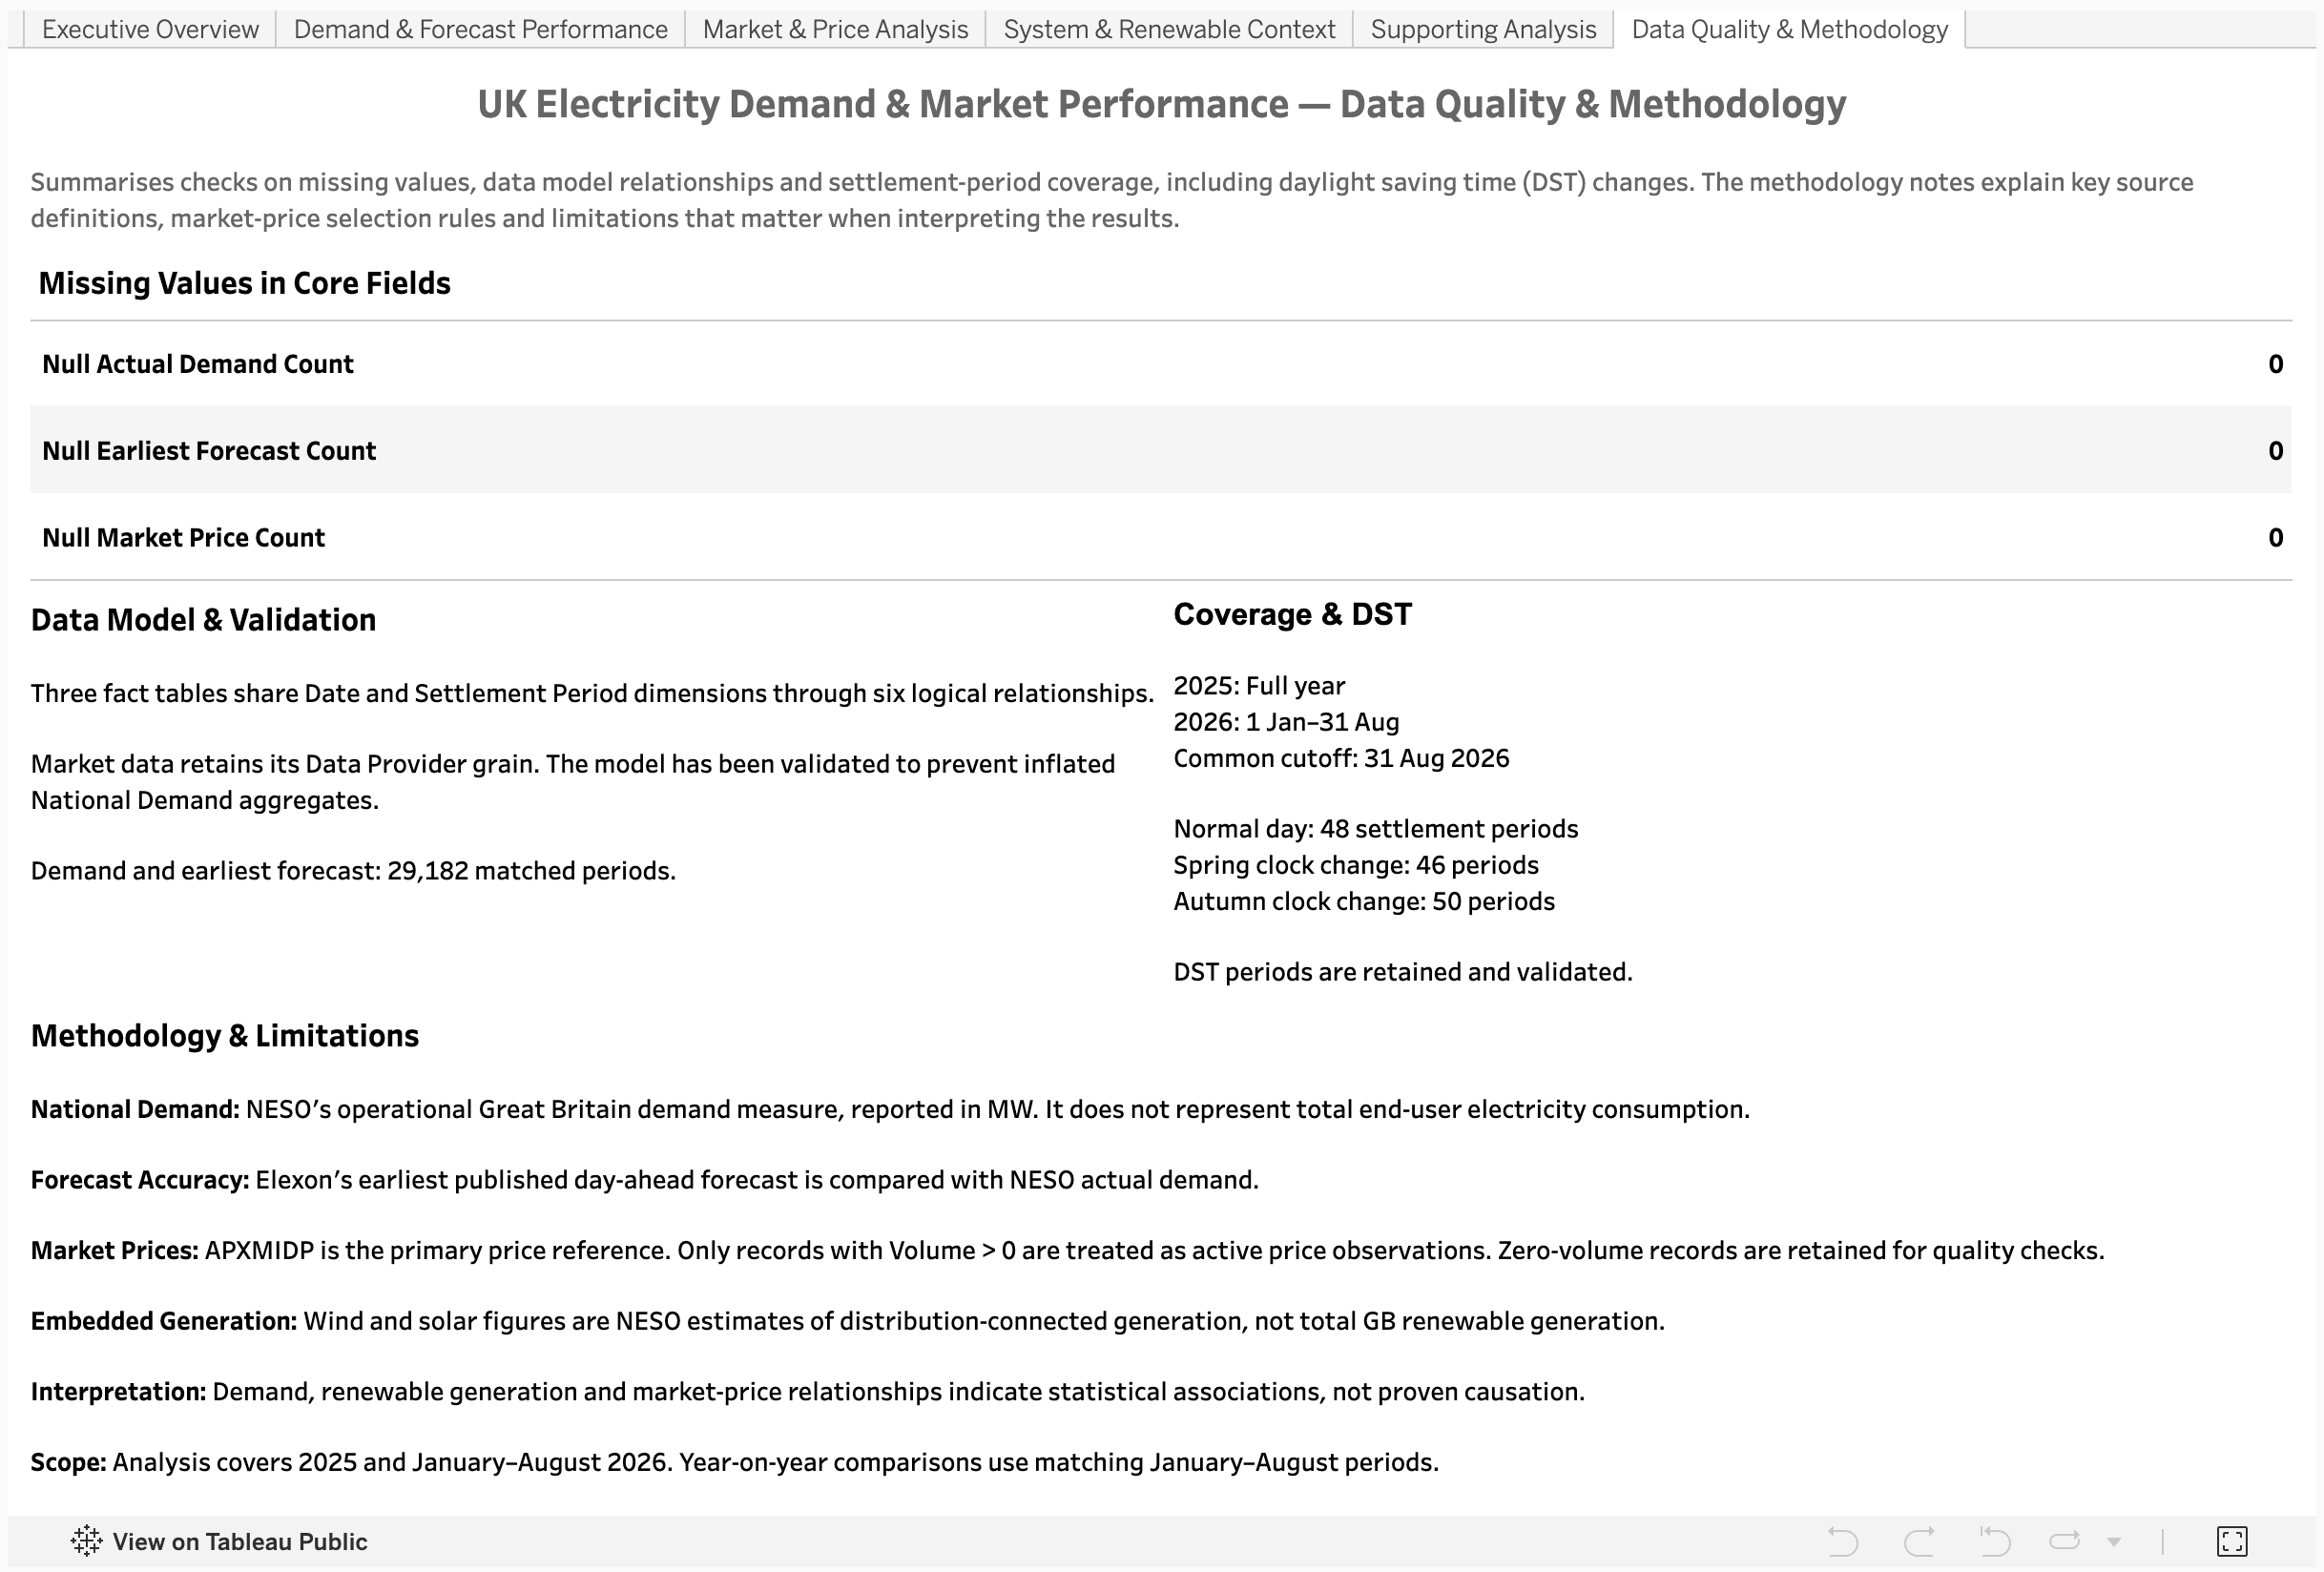

The dashboard page shown, as its layout file describes it:
{"tool":"tableau","page":{"name":"Data Quality & Methodology","canvas":[1210,766],"ordinal":0},"visuals":[{"type":"text","box":[8,8,1194,90]},{"type":"worksheet","title":"Missing Values in Core Fields","mark":"Automatic","box":[8,98,1194,183]},{"type":"text","box":[8,281,599,218]},{"type":"text","box":[607,281,595,218]},{"type":"text","box":[8,499,1194,259]}]}

Visuals, with their boxes on the page's 1210x766 design canvas (x1, y1, x2, y2). These are canvas units, not pixel positions in the 2324x1572 screenshot, which may show the page scaled, cropped or inside an application window:
text: 8/8/1202/98
"Missing Values in Core Fields" worksheet: 8/98/1202/281
text: 8/281/607/499
text: 607/281/1202/499
text: 8/499/1202/758
